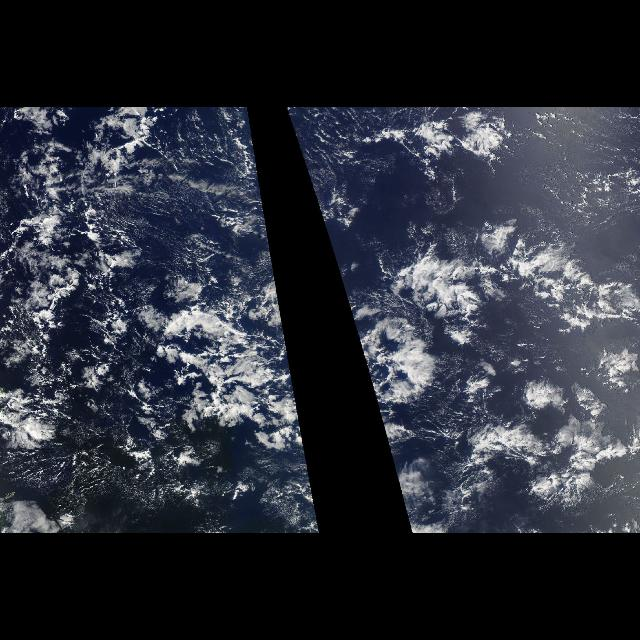Fish: (362, 222, 636, 330)
Flower: (352, 126, 640, 497)
Gravel: (1, 143, 242, 522)
Sugar: (508, 110, 640, 238)
